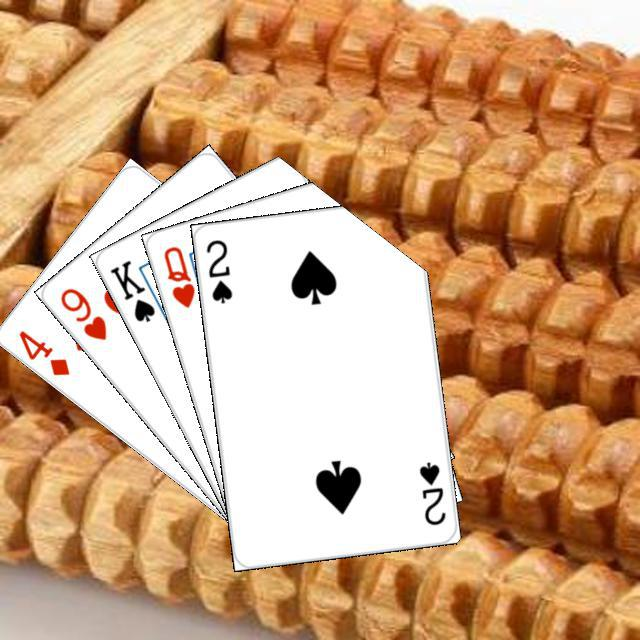2s: (414, 457, 448, 527), (201, 234, 234, 305)
4d: (14, 325, 72, 378)
9h: (55, 283, 109, 343)
Ks: (105, 254, 157, 324)
Qh: (158, 241, 197, 310)
